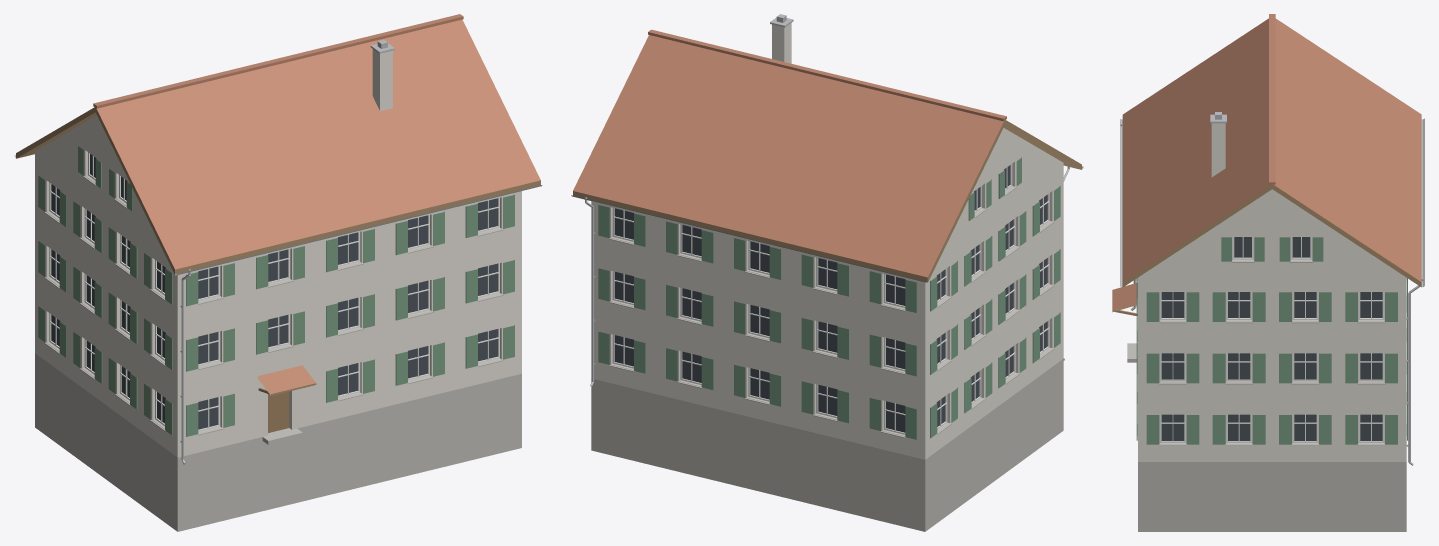
The model's file is house_gable_3_l.glb.
The picture shows the model from 3 angles, left to right: view 1: azimuth 30°, elevation 25°; view 2: azimuth 150°, elevation 25°; view 3: azimuth 270°, elevation 25°; orthographic projection. The views are drawn at different scales.
Visible parts, largest first — view 1: house_gable_3_l; view 2: house_gable_3_l; view 3: house_gable_3_l.
Boxes of the visible parts, x1,y1,x2,y2 form: house_gable_3_l: (14,14,542,531); house_gable_3_l: (571,14,1083,531); house_gable_3_l: (1112,14,1424,531).
Bounding box in the file's own units: 17.04 × 17.68 × 13.38.
